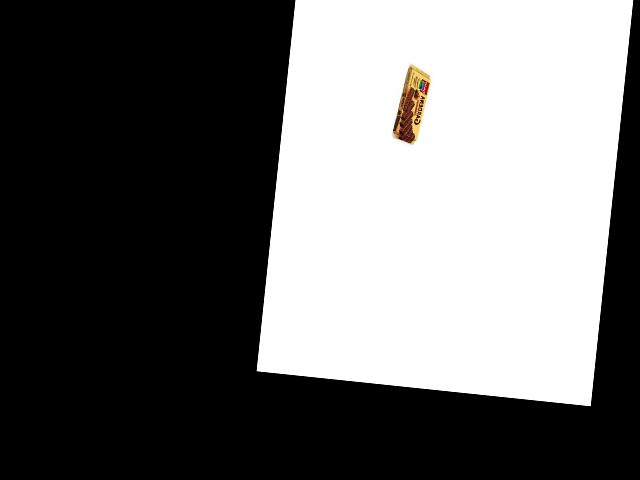chocolate: (394, 61, 433, 149)
